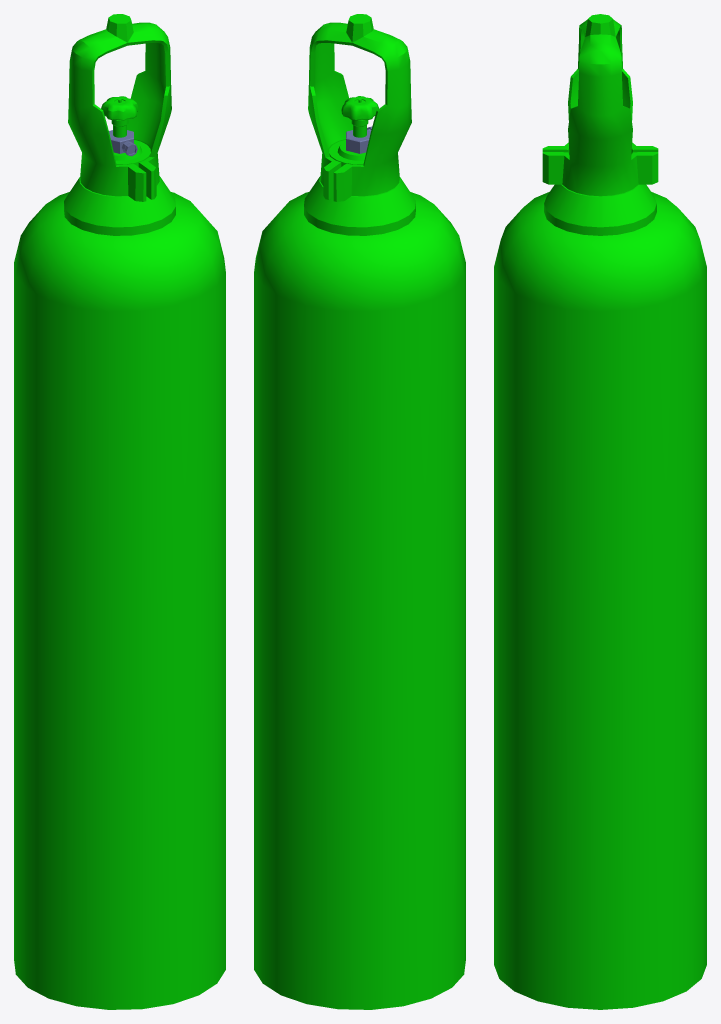
The model's file is seguranca-obj_cilindrogrande.fbx.
3 renders of one model, left to right at view 1: azimuth 30°, elevation 25°; view 2: azimuth 150°, elevation 25°; view 3: azimuth 270°, elevation 25°, orthographic.
Parts seen in each view (by area): view 1: Cilindro_Preto1; view 2: Cilindro_Preto1; view 3: Cilindro_Preto1.
Boxes of the visible parts, bbox=[...] form: Cilindro_Preto1: bbox=[14, 14, 225, 1009]; Cilindro_Preto1: bbox=[254, 14, 465, 1009]; Cilindro_Preto1: bbox=[494, 14, 706, 1009].
Size of the model in its own units: 6.23 by 30.53 by 6.23.
